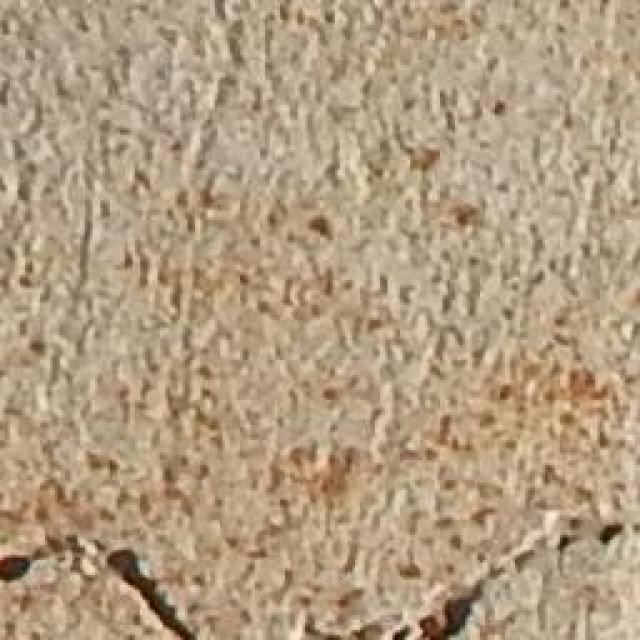concrete-crack: (384, 505, 633, 640), (0, 532, 215, 640)
